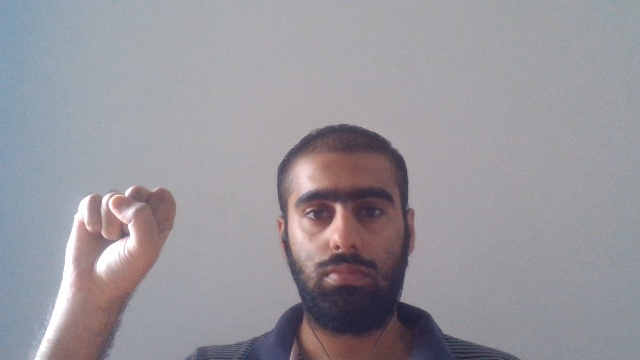rock: (60, 184, 178, 289)
